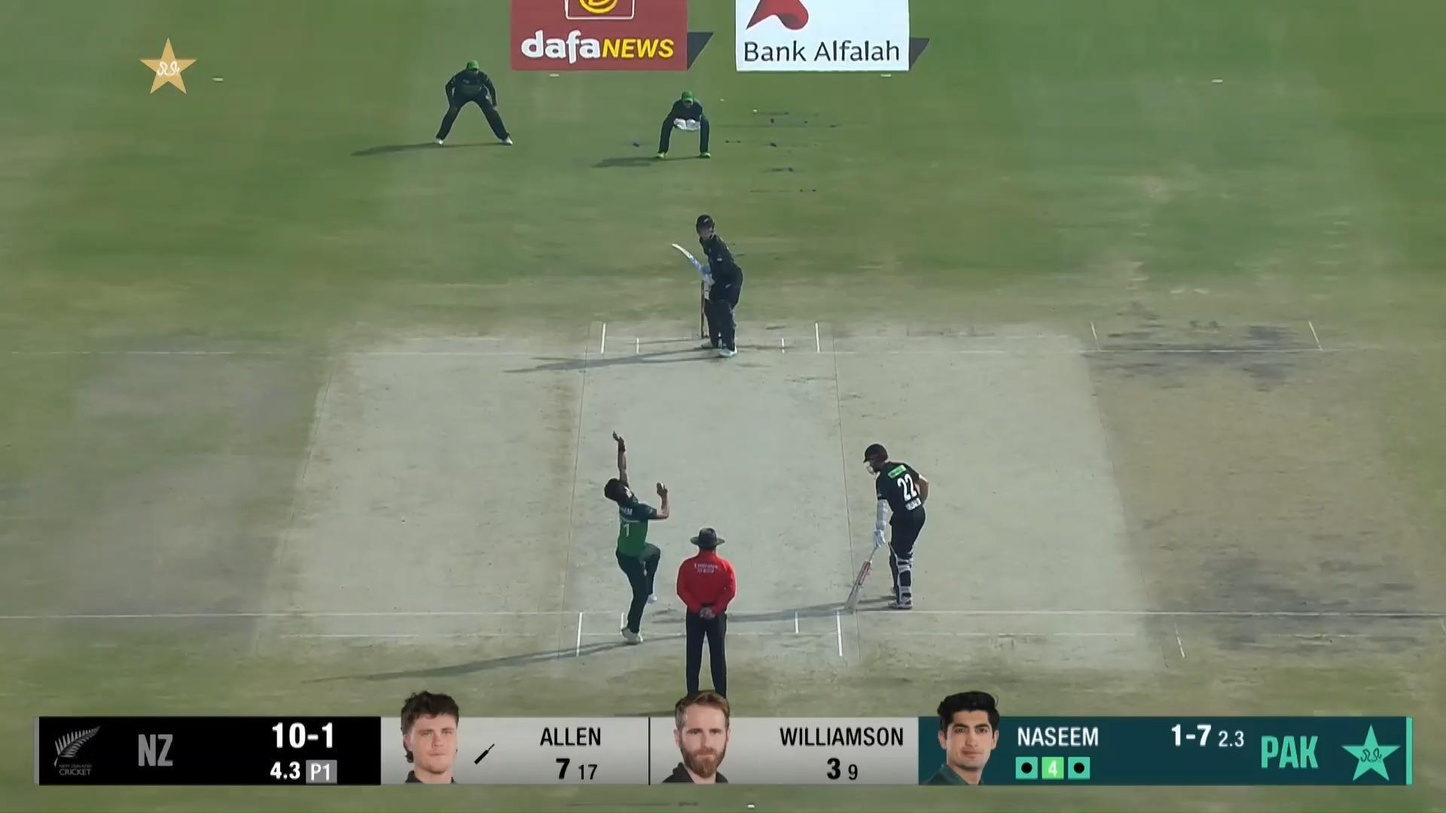BM 1: (672, 214, 743, 358)
BO: (603, 428, 671, 643)
